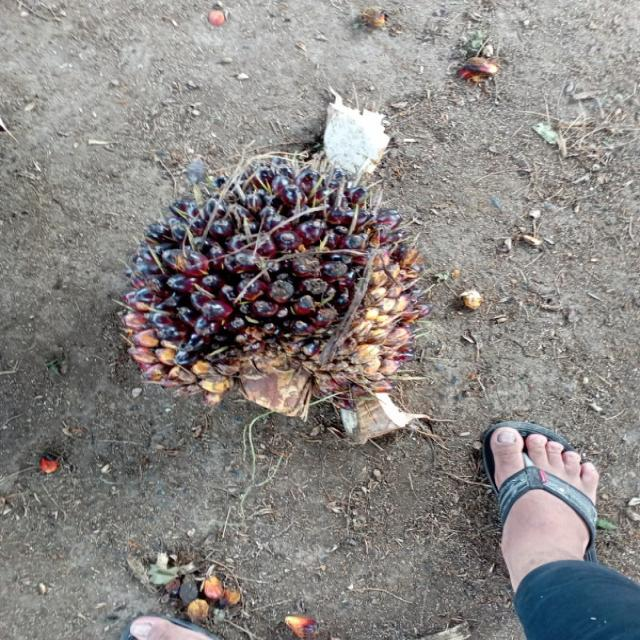fraksi 1: (75, 109, 482, 448)
